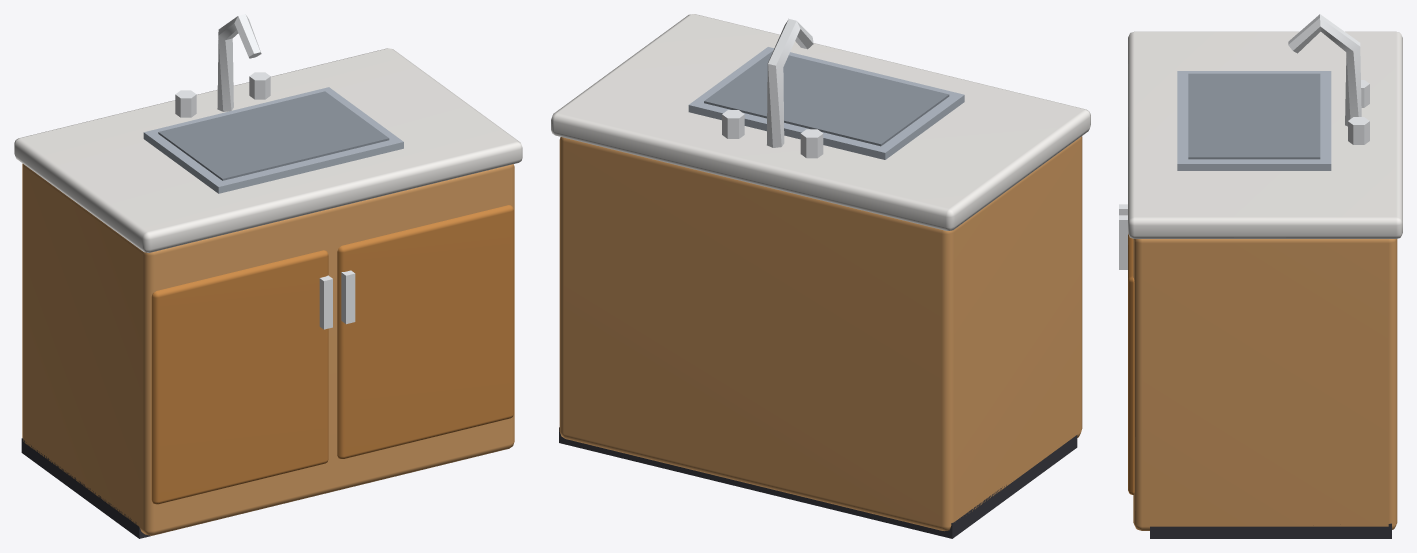
File: KitchenSink.fbx
3 renders of one model, left to right at view 1: azimuth 30°, elevation 25°; view 2: azimuth 150°, elevation 25°; view 3: azimuth 270°, elevation 25°, orthographic. The views are drawn at different scales.
Visible parts, largest first — view 1: KitchenSink; view 2: KitchenSink; view 3: KitchenSink.
Part boxes in pixels (x1=…): KitchenSink: x1=14, y1=14, x2=522, y2=538; KitchenSink: x1=551, y1=14, x2=1090, y2=538; KitchenSink: x1=1119, y1=14, x2=1402, y2=538.
Size of the model in its own units: 4.1 by 4.31 by 2.58.
Materials: 1 (1 with a texture image).
